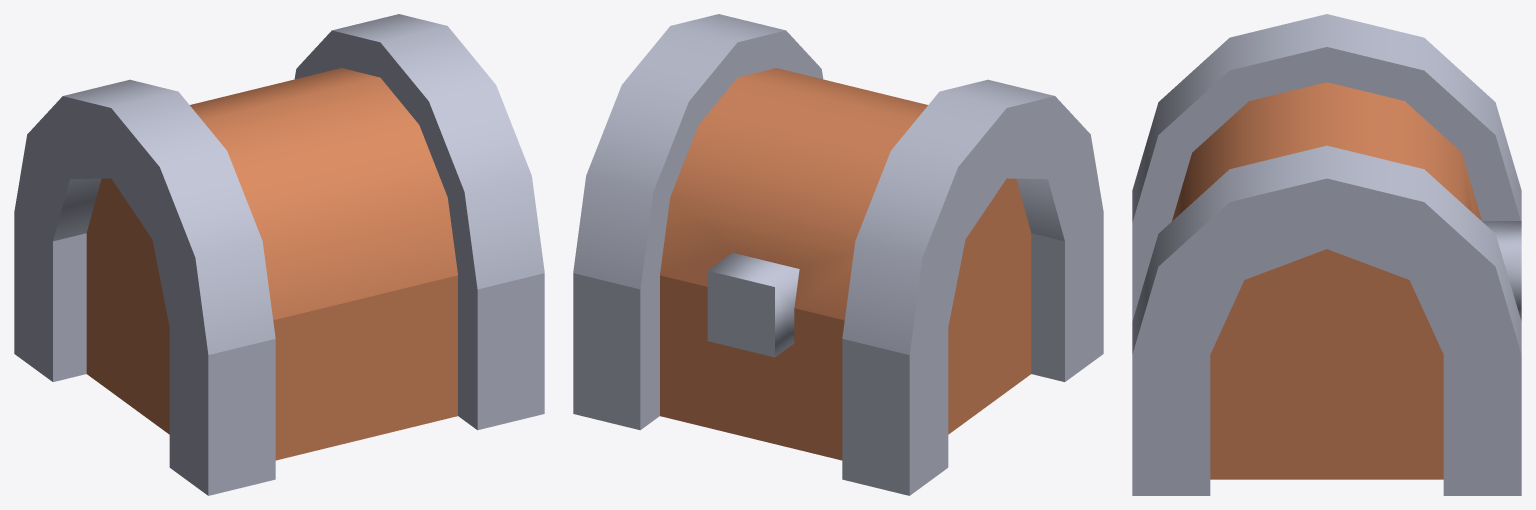
Rendered from chest.glb.
3 renders of one model, left to right at view 1: azimuth 30°, elevation 25°; view 2: azimuth 150°, elevation 25°; view 3: azimuth 270°, elevation 25°, orthographic.
Visible parts, largest first — view 1: lid, chest; view 2: lid, chest; view 3: lid, chest.
Boxes of the visible parts, x1=… form: lid: x1=14, y1=14, x2=544, y2=354; chest: x1=14, y1=213, x2=544, y2=495; lid: x1=573, y1=14, x2=1103, y2=357; chest: x1=573, y1=213, x2=1103, y2=495; lid: x1=1132, y1=14, x2=1521, y2=354; chest: x1=1132, y1=223, x2=1521, y2=495.
Size of the model in its own units: 0.5 by 0.45 by 0.5.
